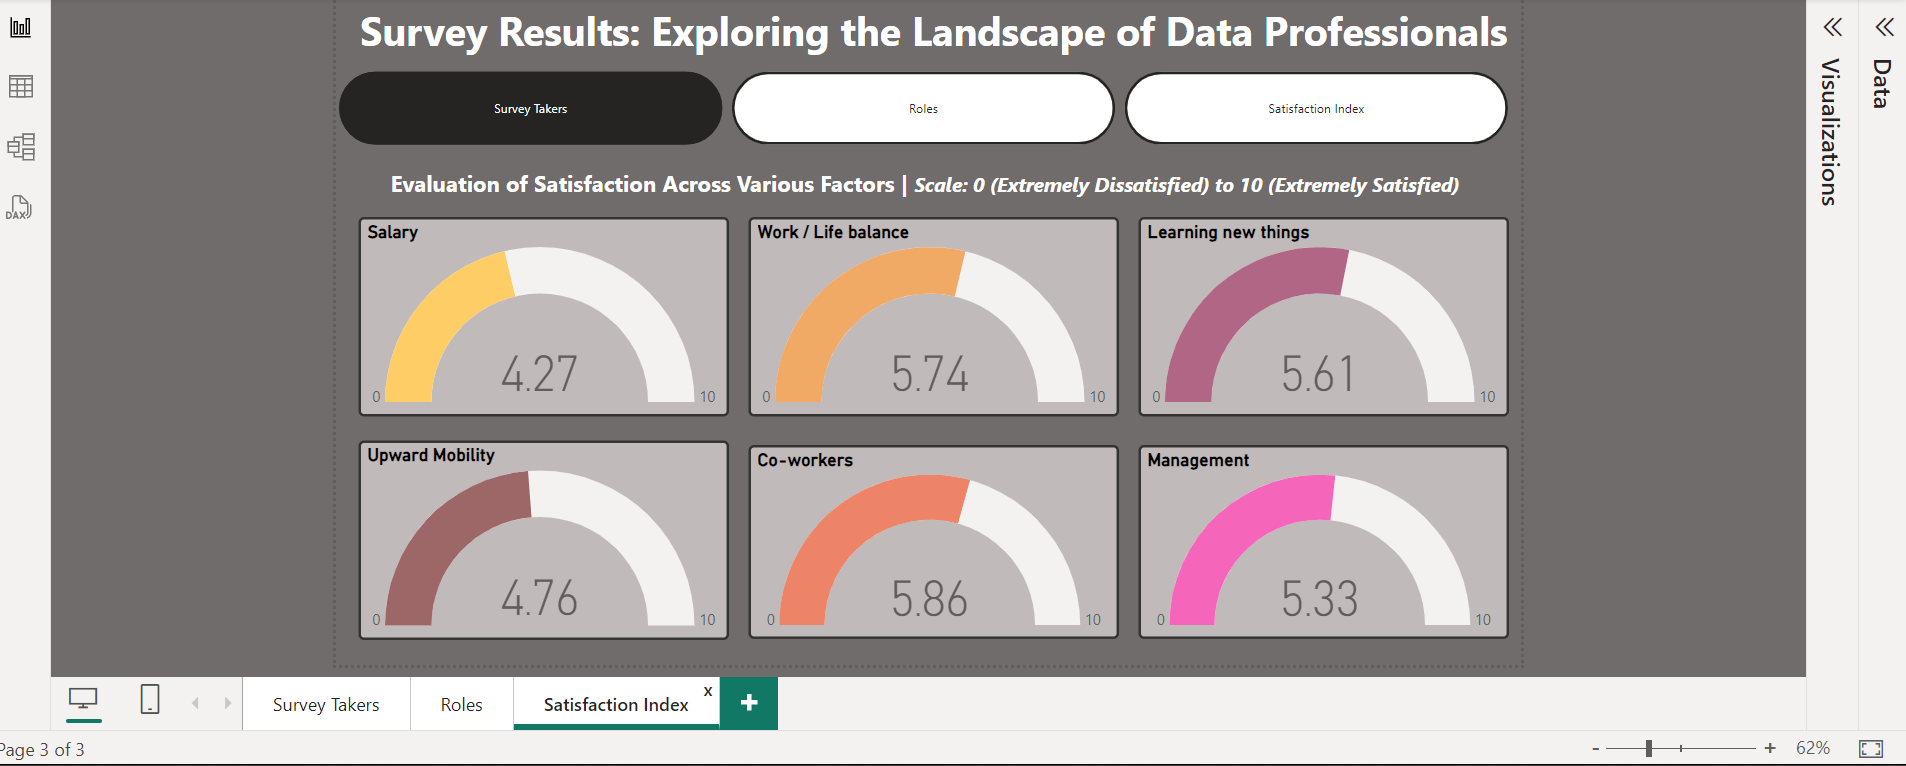

The page's visual inventory and layout, read from the dashboard file:
{"tool":"powerbi","page":{"name":"Satisfaction Index","canvas":[1280,720],"ordinal":2},"visuals":[{"type":"textbox","box":[9.7,0,1271.1,93.9],"z":0},{"type":"gauge","title":"Co-workers","fields":{"Y":["Avg(Data Professional Survey.Q6 - How Happy are you in your Current Position with the following? (Coworkers))"],"MinValue":["Min(Data Professional Survey.Q6 - How Happy are you in your Current Position with the following? (Coworkers))1"],"MaxValue":["Max(Data Professional Survey.Q6 - How Happy are you in your Current Position with the following? (Coworkers))2"]},"box":[445.3,483,400,209.4],"z":1000},{"type":"gauge","title":"Learning new things","fields":{"Y":["Avg(Data Professional Survey.Q6 - How Happy are you in your Current Position with the following? (Learning New Things))"],"MinValue":["Min(Data Professional Survey.Q6 - How Happy are you in your Current Position with the following? (Learning New Things))1"],"MaxValue":["Max(Data Professional Survey.Q6 - How Happy are you in your Current Position with the following? (Learning New Things))2"]},"box":[866,235.8,400,215.1],"z":3000},{"type":"gauge","title":"Management","fields":{"Y":["Avg(Data Professional Survey.Q6 - How Happy are you in your Current Position with the following? (Management))"],"MinValue":["Min(Data Professional Survey.Q6 - How Happy are you in your Current Position with the following? (Management))1"],"MaxValue":["Max(Data Professional Survey.Q6 - How Happy are you in your Current Position with the following? (Management))2"]},"box":[866,483,400,209.4],"z":4000},{"type":"gauge","title":"Salary","fields":{"Y":["Avg(Data Professional Survey.Q6 - How Happy are you in your Current Position with the following? (Salary))"],"MinValue":["Min(Data Professional Survey.Q6 - How Happy are you in your Current Position with the following? (Salary))"],"MaxValue":["Max(Data Professional Survey.Q6 - How Happy are you in your Current Position with the following? (Salary))1"]},"box":[24.5,235.8,400,215.1],"z":5000},{"type":"gauge","title":"Upward Mobility","fields":{"Y":["Avg(Data Professional Survey.Q6 - How Happy are you in your Current Position with the following? (Upward Mobility))"],"MinValue":["Min(Data Professional Survey.Q6 - How Happy are you in your Current Position with the following? (Upward Mobility))1"],"MaxValue":["Max(Data Professional Survey.Q6 - How Happy are you in your Current Position with the following? (Upward Mobility))2"]},"box":[24.5,477.4,400,215.1],"z":6000},{"type":"gauge","title":"Work / Life balance","fields":{"Y":["Avg(Data Professional Survey.Q6 - How Happy are you in your Current Position with the following? (Work/Life Balance))"],"MinValue":["Min(Data Professional Survey.Q6 - How Happy are you in your Current Position with the following? (Work/Life Balance))1"],"MaxValue":["Max(Data Professional Survey.Q6 - How Happy are you in your Current Position with the following? (Work/Life Balance))2"]},"box":[445.3,235.8,400,215.1],"z":7000},{"type":"bookmarkNavigator","box":[3.8,79.2,1262.3,79.2],"z":8000},{"type":"textbox","box":[0,178.7,1272.1,57.4],"z":9000}]}

Visuals, with their boxes on the page's 1280x720 design canvas (x1, y1, x2, y2). These are canvas units, not pixel positions in the 1906x766 screenshot, which may show the page scaled, cropped or inside an application window:
textbox: bbox=(10, 0, 1281, 94)
"Co-workers" gauge: bbox=(445, 483, 845, 692)
"Learning new things" gauge: bbox=(866, 236, 1266, 451)
"Management" gauge: bbox=(866, 483, 1266, 692)
"Salary" gauge: bbox=(24, 236, 424, 451)
"Upward Mobility" gauge: bbox=(24, 477, 424, 692)
"Work / Life balance" gauge: bbox=(445, 236, 845, 451)
bookmarkNavigator: bbox=(4, 79, 1266, 158)
textbox: bbox=(0, 179, 1272, 236)
